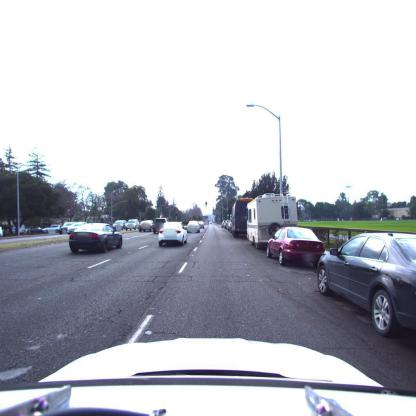car: (314, 232, 416, 342), (266, 227, 325, 267), (69, 224, 122, 255), (158, 221, 188, 248), (139, 218, 165, 233), (127, 220, 154, 233), (65, 223, 88, 234), (153, 218, 168, 234), (139, 220, 154, 232), (125, 220, 140, 231), (25, 227, 48, 234), (187, 221, 200, 233), (114, 220, 128, 231), (45, 224, 61, 232), (198, 222, 206, 229)
truck: (245, 196, 300, 249)
